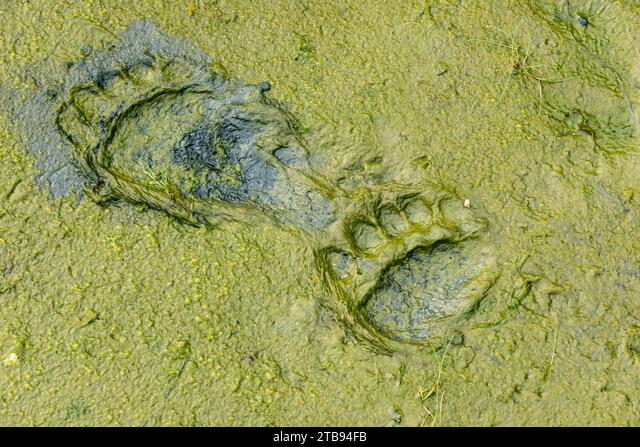bear: (35, 41, 523, 386)
